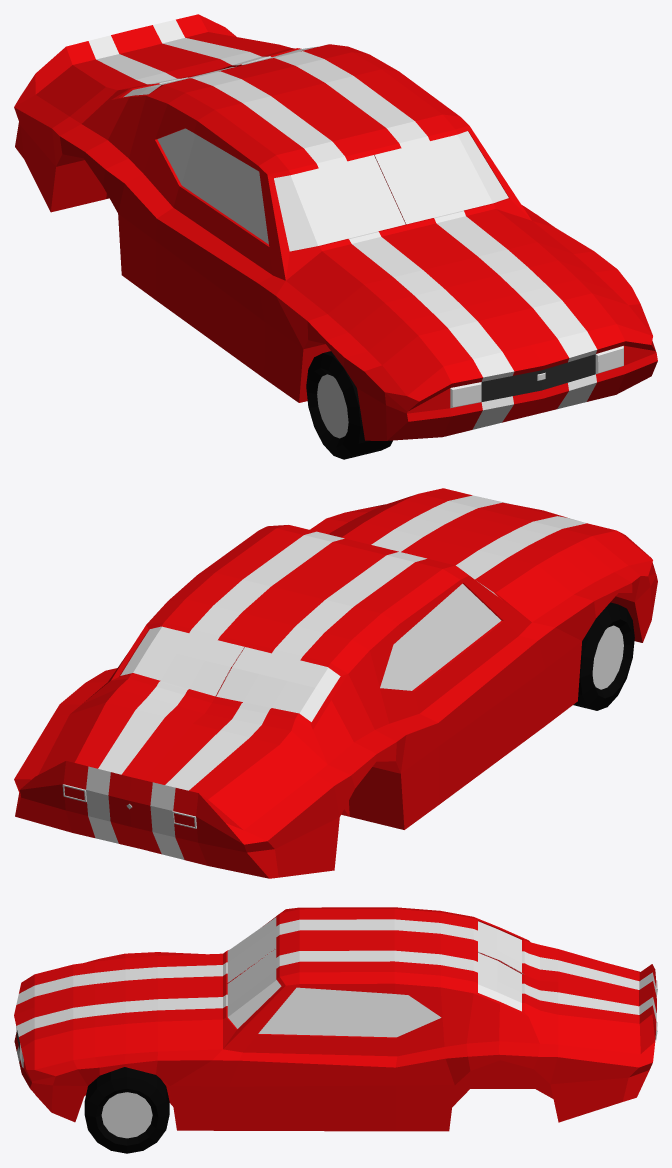
The picture shows the model from 3 angles, top to bottom: view 1: azimuth 30°, elevation 25°; view 2: azimuth 150°, elevation 25°; view 3: azimuth 270°, elevation 25°; orthographic projection. The views are drawn at different scales.
Parts seen in each view (by area): view 1: Body, Wheel_FR; view 2: Body, Wheel_FR; view 3: Body, Wheel_FL.
Part boxes in pixels (<box>): Body: <box>14,14,657,440</box>; Wheel_FR: <box>306,351,392,459</box>; Body: <box>14,488,657,878</box>; Wheel_FR: <box>573,602,634,710</box>; Body: <box>14,907,657,1131</box>; Wheel_FL: <box>84,1067,169,1153</box>.
Bounding box in the file's own units: 128 × 86.66 × 315.
